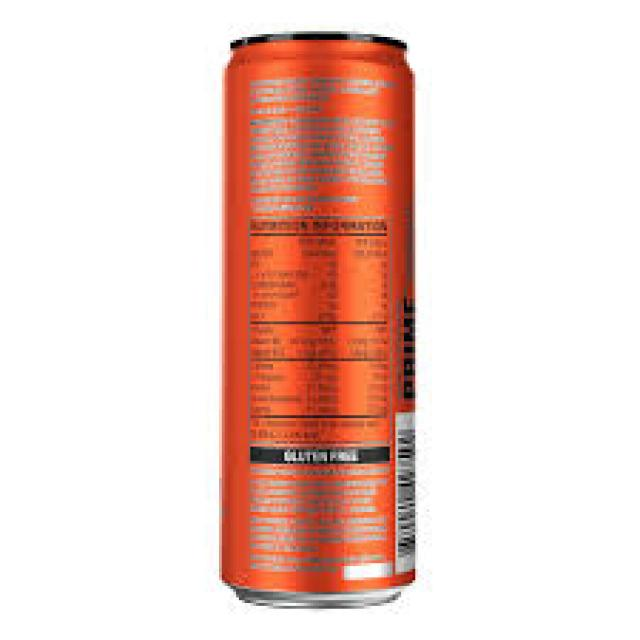Cans: (208, 17, 441, 614)
